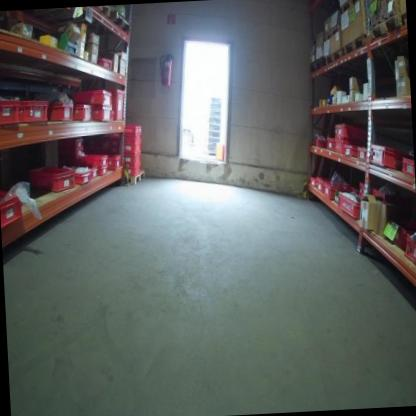pallet: (368, 13, 403, 41), (342, 32, 368, 55), (112, 10, 130, 35), (324, 46, 344, 66), (124, 169, 145, 186), (340, 0, 363, 15), (323, 22, 341, 41), (309, 54, 324, 72), (95, 5, 111, 19)
small_load_carrier: (28, 160, 78, 193), (0, 187, 27, 229), (63, 88, 115, 109), (368, 143, 402, 172), (334, 190, 364, 220), (105, 88, 129, 125), (17, 97, 49, 123), (332, 120, 369, 141), (0, 98, 22, 128), (321, 179, 352, 200), (49, 100, 75, 123), (86, 105, 112, 126), (59, 147, 87, 163), (79, 151, 106, 166), (75, 101, 93, 122), (72, 169, 91, 188), (404, 236, 416, 265), (399, 154, 414, 177), (62, 136, 84, 150), (119, 122, 142, 134), (341, 142, 357, 158), (124, 142, 142, 156), (125, 164, 143, 178), (108, 151, 121, 169), (356, 144, 369, 161), (121, 133, 142, 143), (97, 58, 110, 73), (326, 137, 338, 153), (88, 164, 100, 180), (123, 155, 142, 165), (314, 135, 328, 148), (316, 178, 328, 192), (334, 141, 345, 156), (99, 165, 111, 176), (309, 173, 316, 188)
